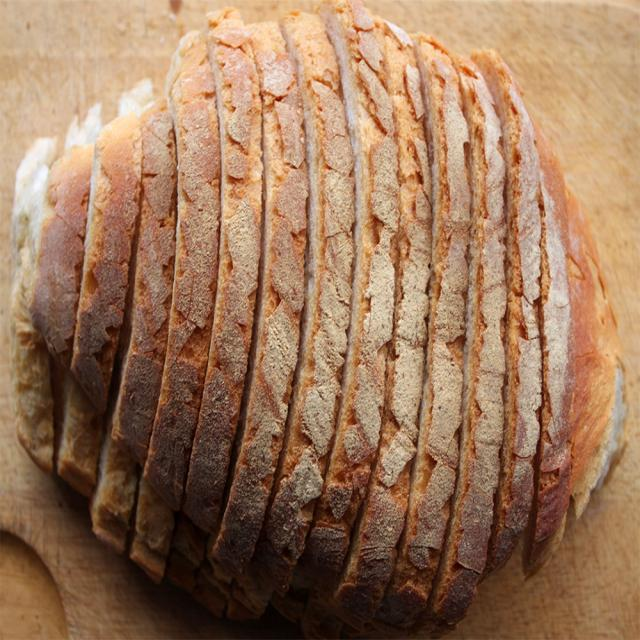Maltese-Bread: (11, 0, 624, 632)
